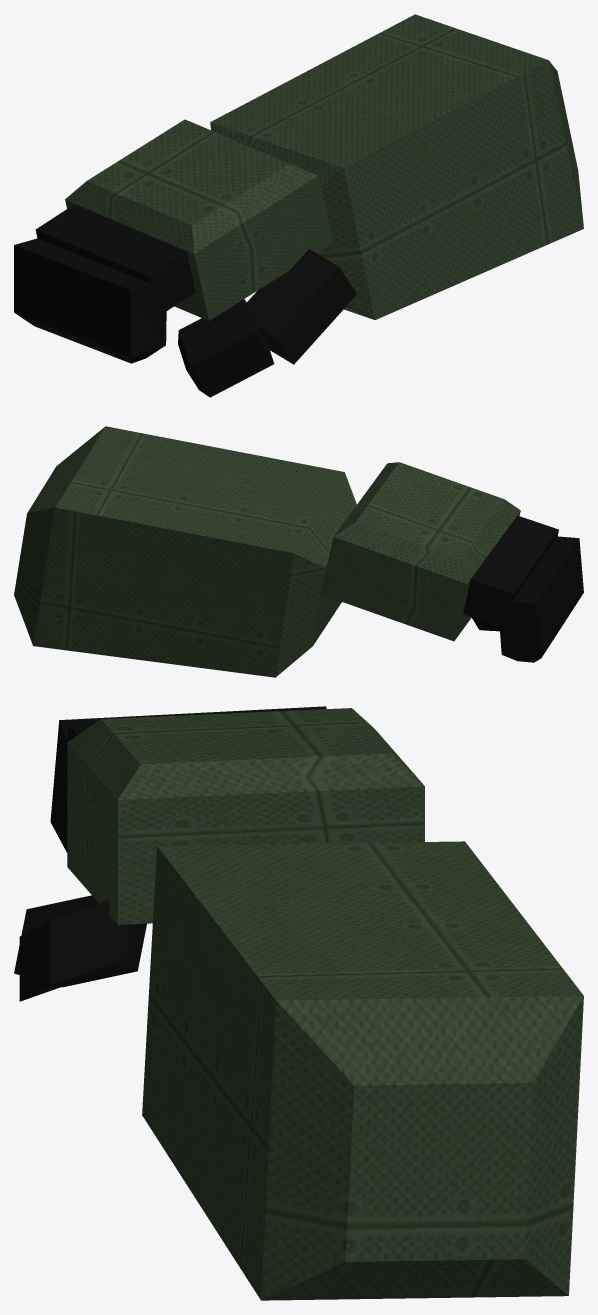
File: antebrazo_der.obj
The picture shows the model from 3 angles, top to bottom: view 1: azimuth 30°, elevation 25°; view 2: azimuth 150°, elevation 25°; view 3: azimuth 270°, elevation 25°; orthographic projection. The views are drawn at different scales.
Parts seen in each view (by area): view 1: antebrazo_der; view 2: antebrazo_der; view 3: antebrazo_der.
Part boxes in pixels (box(x1,y1,x2,y2)): antebrazo_der: box(14, 14, 583, 397); antebrazo_der: box(14, 426, 583, 677); antebrazo_der: box(14, 706, 583, 1300).
Size of the model in its own units: 4.85 by 1.56 by 2.61.
Materials: 2 (1 with a texture image).
